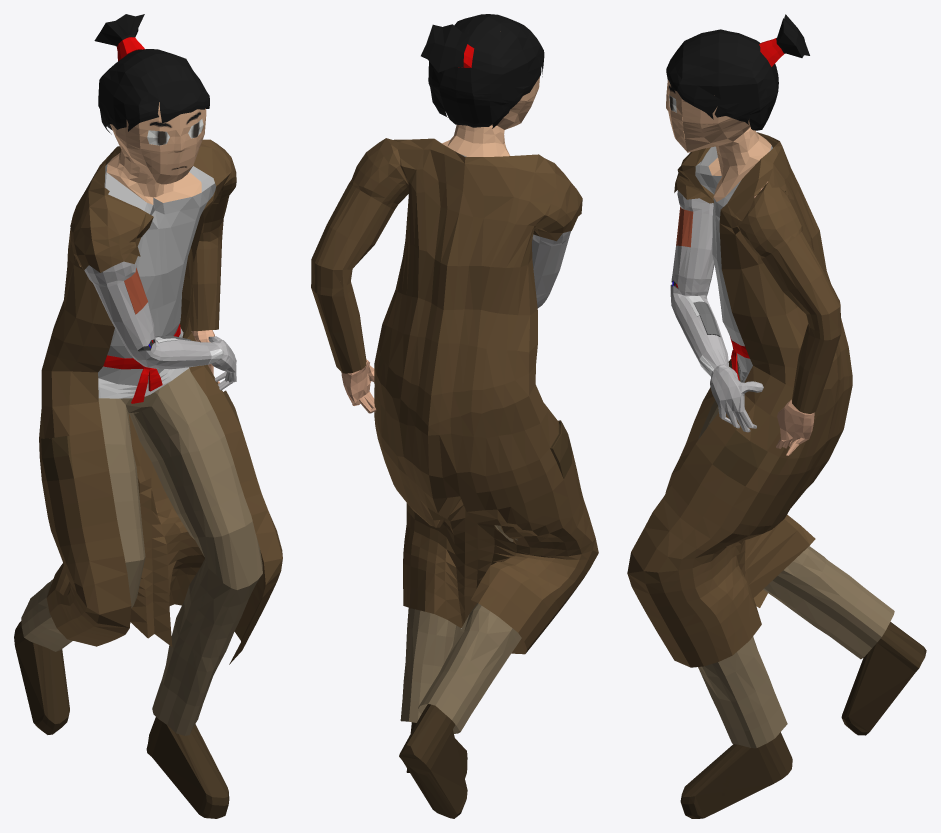
Rendered from One_RF_000017.obj.
3 views of the same model, side by side, from view 1: azimuth 30°, elevation 25°; view 2: azimuth 150°, elevation 25°; view 3: azimuth 270°, elevation 25° (orthographic). The views are drawn at different scales.
Visible parts, largest first — view 1: Hair_Cube.004; view 2: Hair_Cube.004; view 3: Hair_Cube.004.
Part boxes in pixels (box(x1,y1,x2,y2)): Hair_Cube.004: box(14, 14, 282, 818); Hair_Cube.004: box(311, 14, 598, 818); Hair_Cube.004: box(627, 14, 926, 818).
Bounding box in the file's own units: 1.1 × 3.89 × 1.36.
